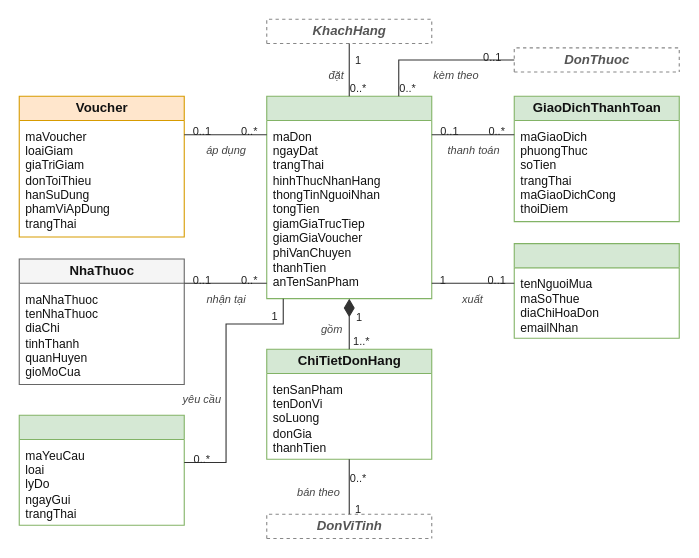
This 699x558 diagram has some shape labels left out. Here are the shapes that lost their labels. From the top down, the box of each, then its label:
(266, 95, 432, 299): DonHang
(513, 243, 679, 338): HoaDonDienTu
(18, 414, 184, 525): YeuCauHuyTra
